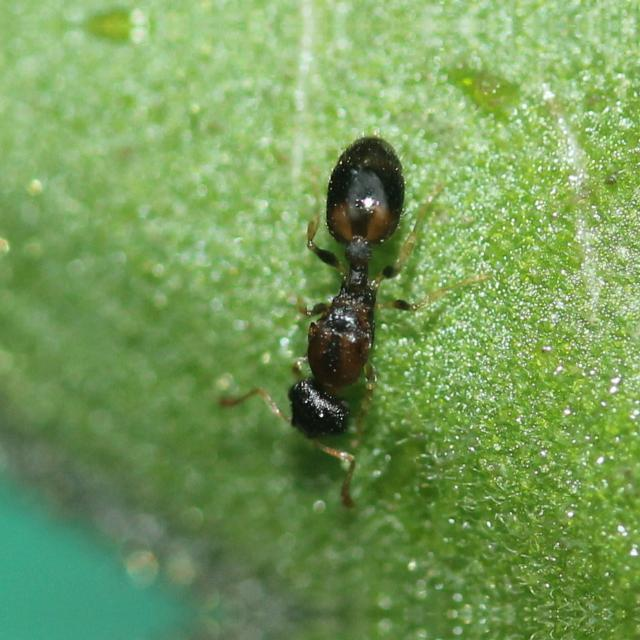Temnothorax: (260, 114, 484, 460)
